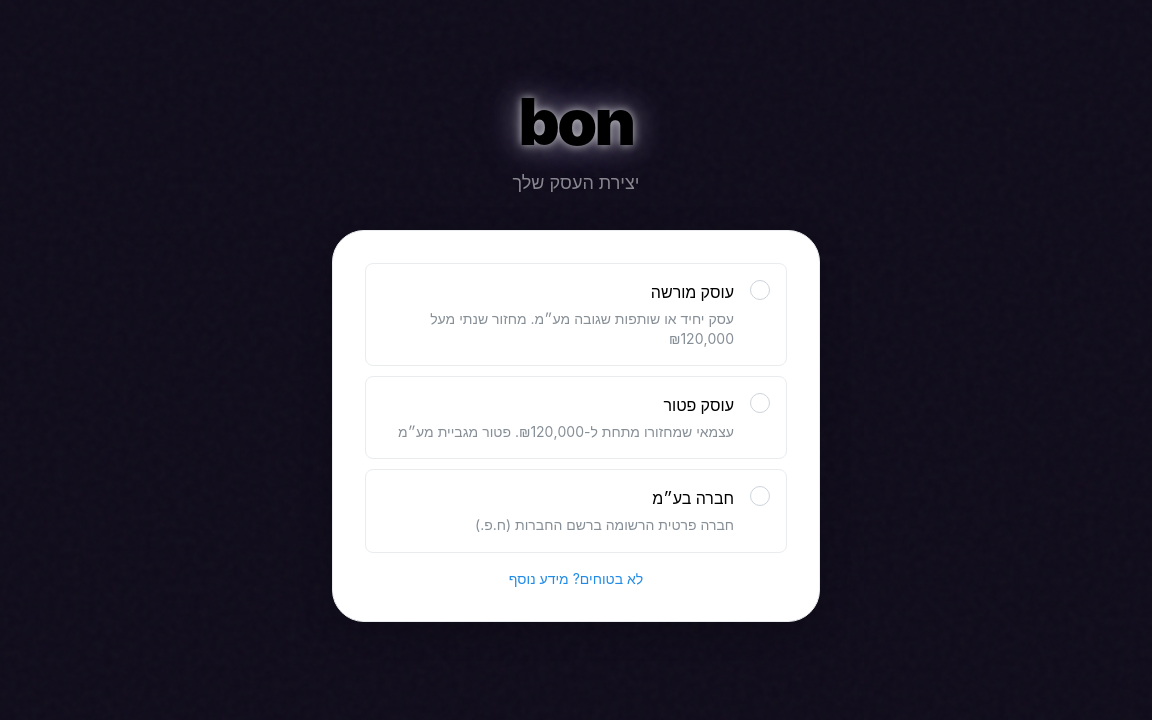
Test case: Onboarding page › opens info modal when clicking "לא בטוחים? מידע נוסף"
What coordinates should you click on to do the following:
click the button "לא בטוחים? מידע נוסף"
I would click on:
 (576, 579)
Its box is x1=365 y1=569 x2=787 y2=589.
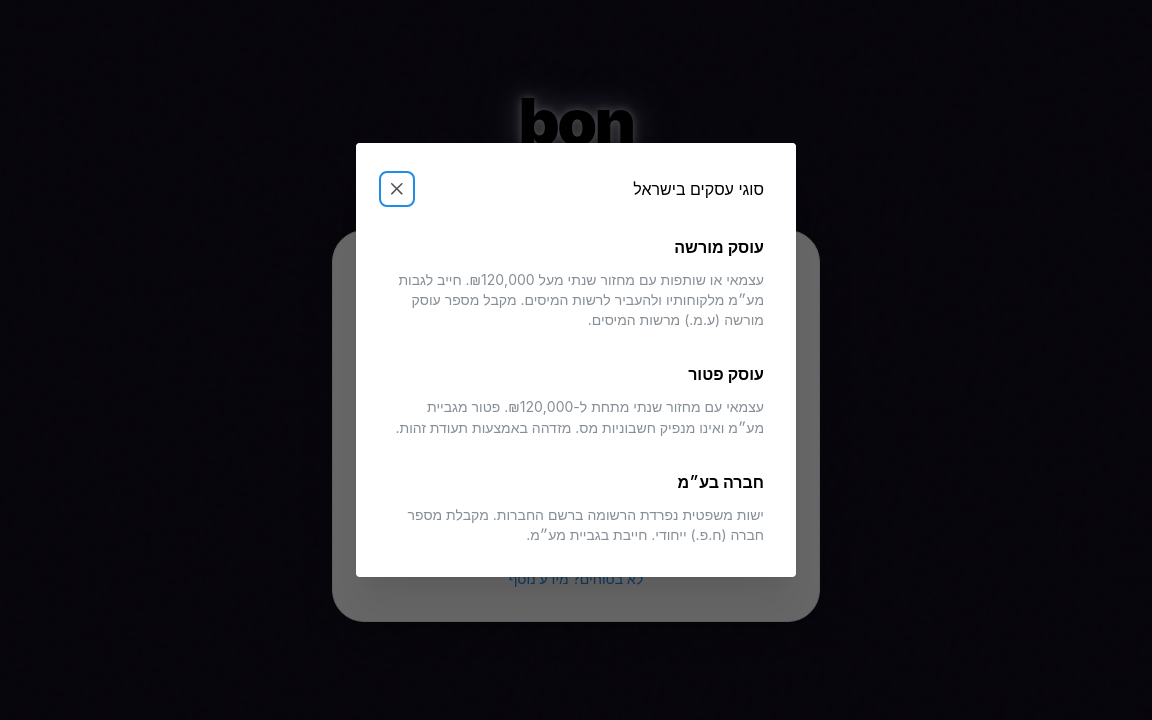
Check: the heading "סוגי עסקים בישראל" is shown, box x1=633 y1=181 x2=764 y2=197
